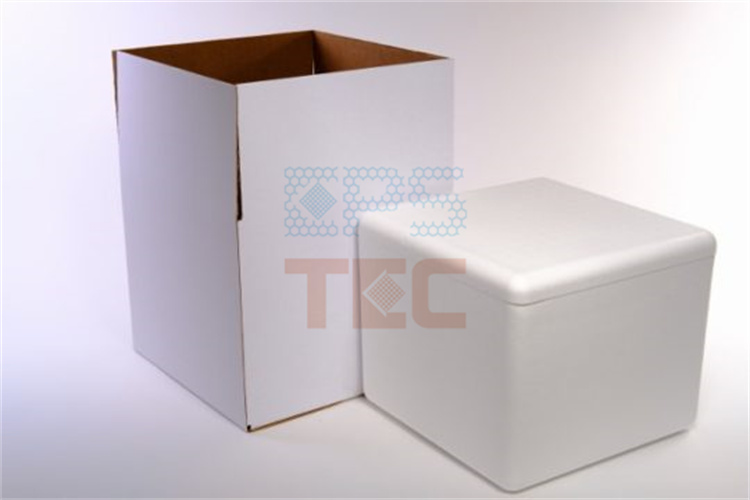Boxes: (355, 180, 716, 490)
